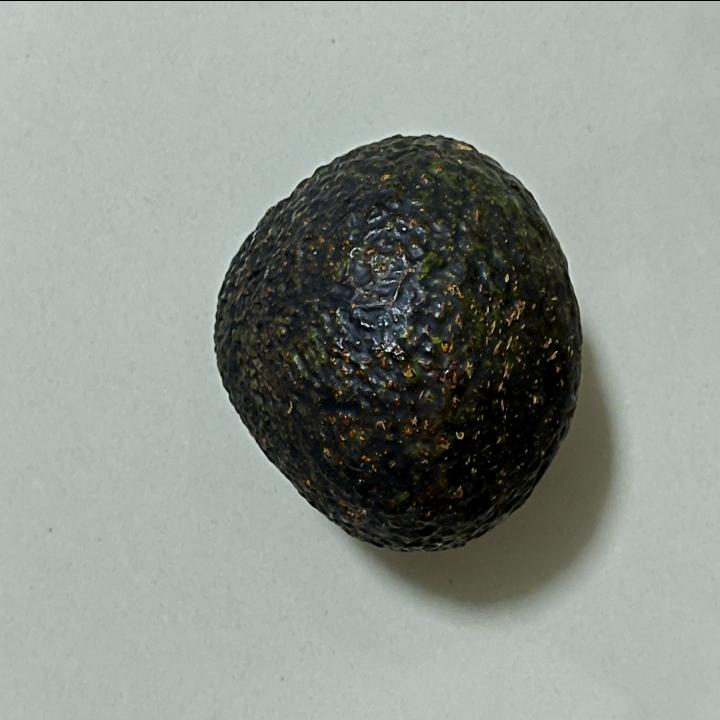Level1: (202, 121, 596, 565)
